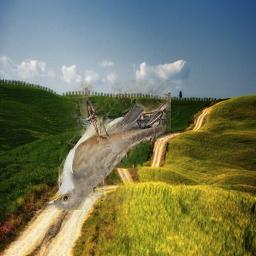Cuckoo: (46, 80, 171, 210)
